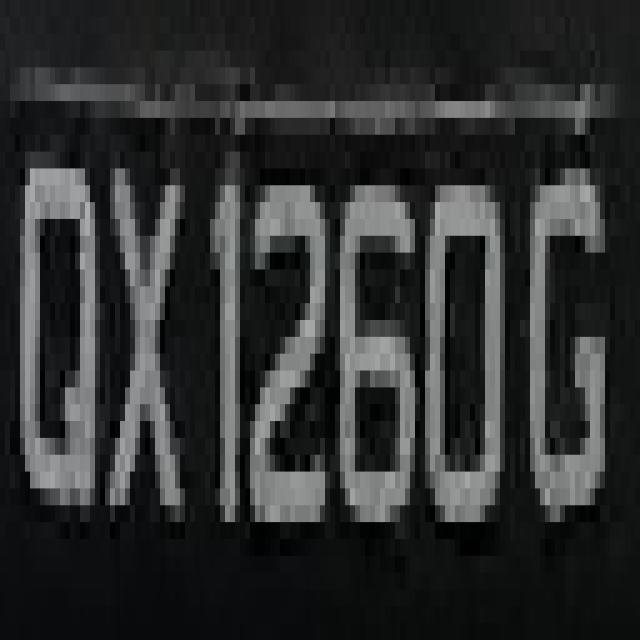0: (410, 135, 505, 572)
1: (210, 118, 245, 589)
2: (230, 118, 330, 556)
6: (335, 168, 420, 572)
G: (520, 84, 615, 556)
Q: (15, 135, 105, 539)
X: (85, 135, 190, 522)
